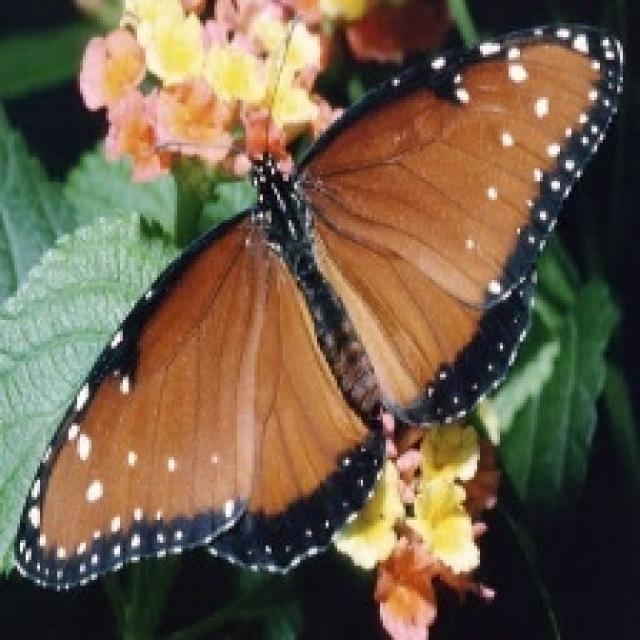butterfly: (8, 17, 623, 592)
